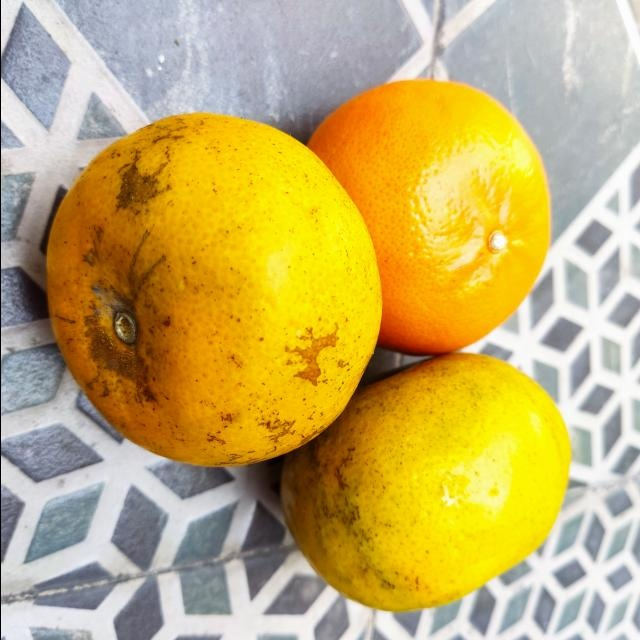agrume: (41, 109, 383, 468), (272, 352, 576, 612)
